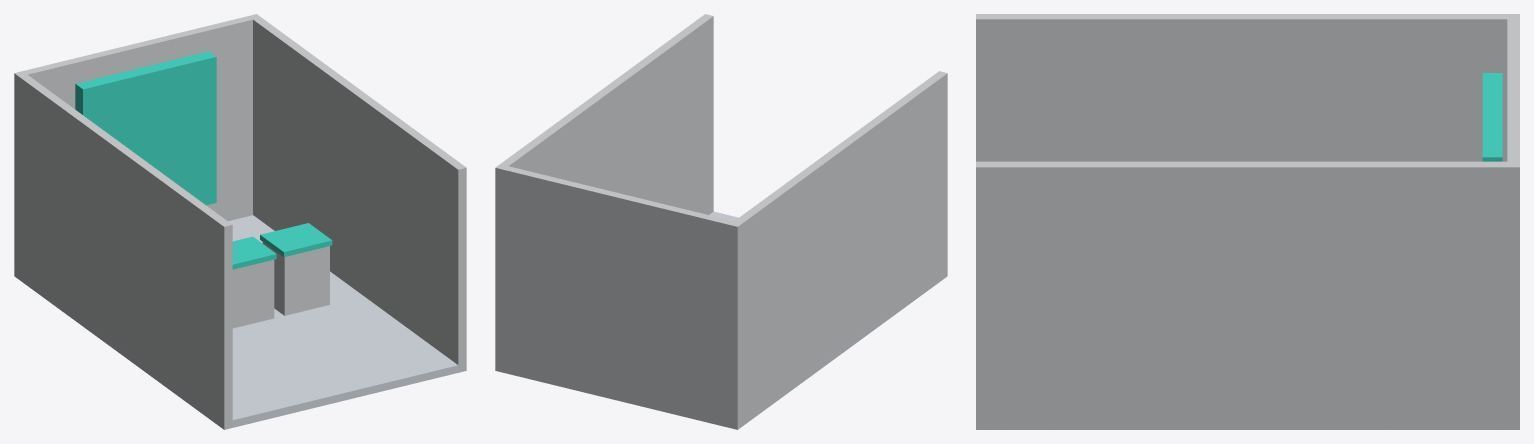
3 renders of one model, left to right at view 1: azimuth 30°, elevation 25°; view 2: azimuth 150°, elevation 25°; view 3: azimuth 270°, elevation 25°, orthographic. The views are drawn at different scales.
Visible parts, largest first — view 1: Exhibition Booth Concept; view 2: Exhibition Booth Concept; view 3: Exhibition Booth Concept.
Boxes of the visible parts, x1,y1,x2,y2 form: Exhibition Booth Concept: (14,14,466,429); Exhibition Booth Concept: (495,14,947,429); Exhibition Booth Concept: (976,14,1519,429).
Bounding box in the file's own units: 4 × 3.2 × 6.
